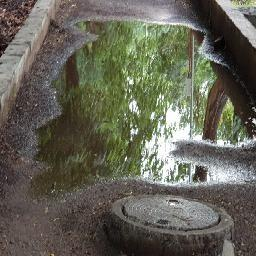water accumulation: (28, 19, 256, 194)
